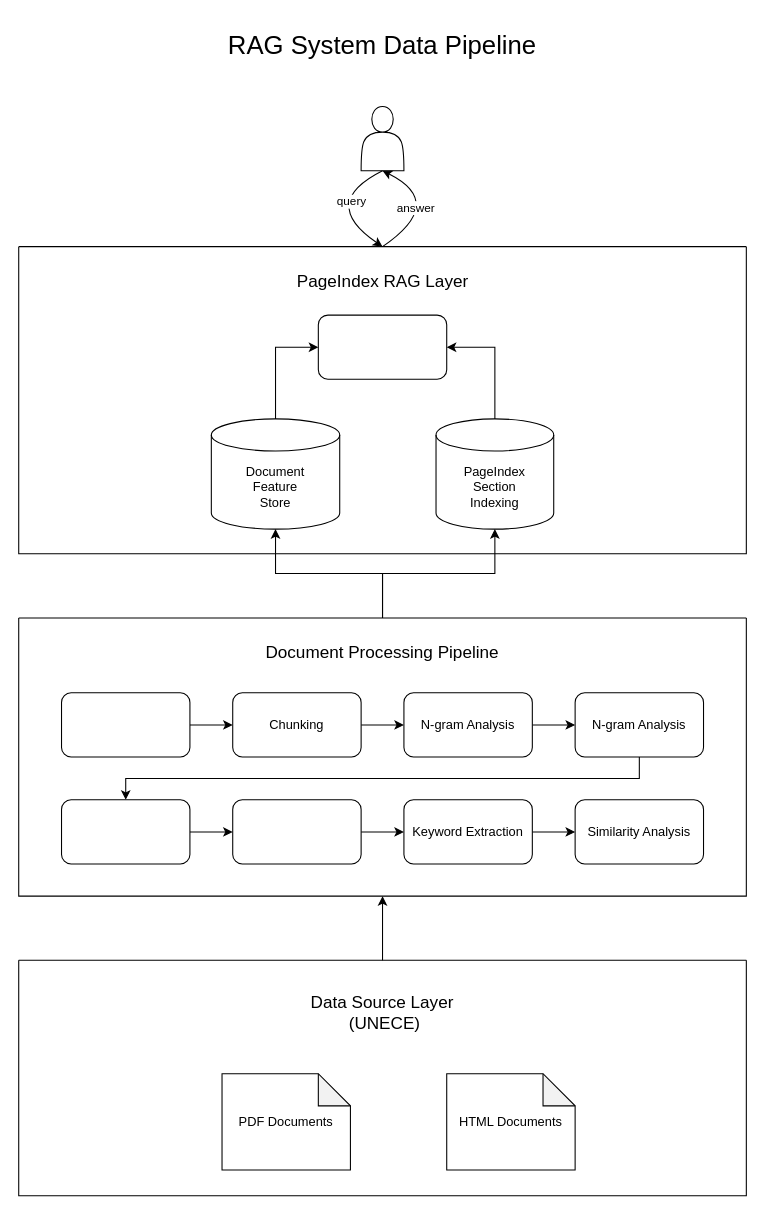
This 765x1214 diagram has some shape labels left out. The shapes that lost their labels are listed below. From the top down, each one's centre as x and y in pixels, then its label:
At point 382,346: "LLM-powered Retrieval".
At point 125,724: "Text Extraction".
At point 125,831: "NER".
At point 296,831: "Word Count Analysis".
